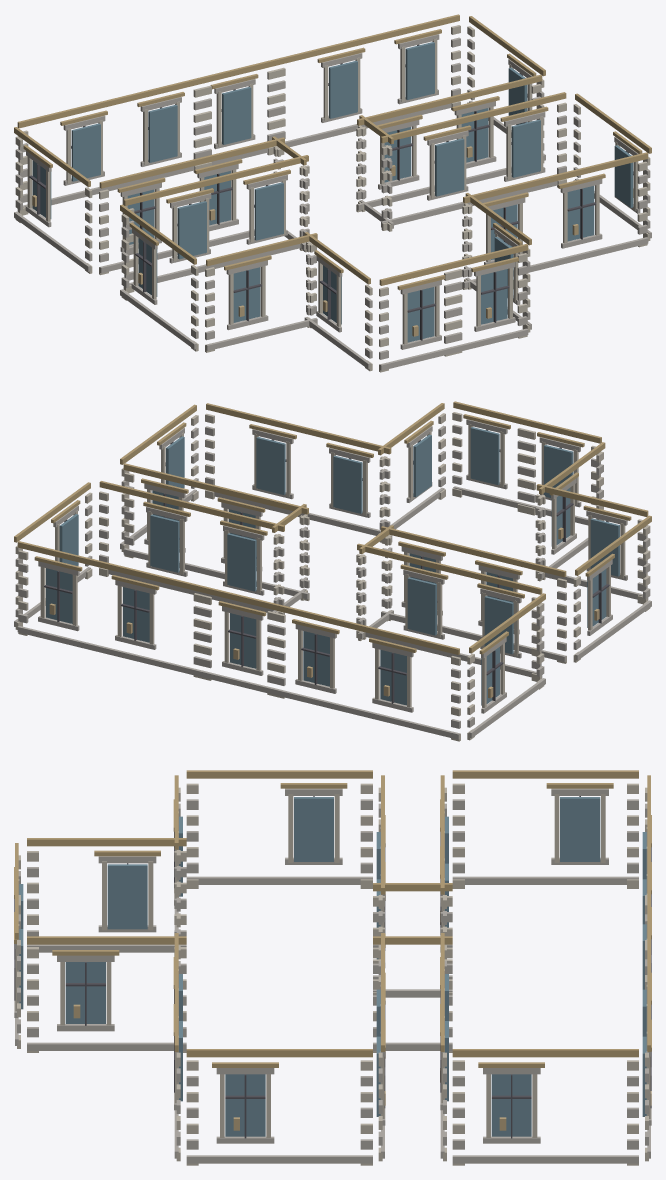
Rendered from exterior_facade_floor_03.glb.
3 views of the same model, one above another, from view 1: azimuth 30°, elevation 25°; view 2: azimuth 150°, elevation 25°; view 3: azimuth 270°, elevation 25° (orthographic). The views are drawn at different scales.
Parts seen in each view (by area): view 1: EXT-f3-e12-window0-glazing, EXT-f3-e12-window1-glazing, EXT-f3-e18-window0-glazing, EXT-f3-e3-window0-glazing, EXT-f3-e16-window0-glazing, EXT-f3-e17-window0-glazing, EXT-f3-e16-window1-glazing, EXT-f3-e18-window1-glazing, EXT-f3-e3-window1-glazing, EXT-f3-e18-continuous-cornice-2.888, EXT-f3-e16-continuous-cornice-2.888, EXT-f3-e12-continuous-cornice-2.888 (+39 smaller); view 2: EXT-f3-e1-window1-glazing, EXT-f3-e14-window1-glazing, EXT-f3-e10-window0-glazing, EXT-f3-e14-window0-glazing, EXT-f3-e8-window0-glazing, EXT-f3-e10-window1-glazing, EXT-f3-e18-continuous-cornice-0.2, EXT-f3-e18-continuous-cornice-2.888, EXT-f3-e16-continuous-cornice-2.888, EXT-f3-e16-continuous-cornice-0.2, EXT-f3-e1-continuous-cornice-2.888, EXT-f3-e12-continuous-cornice-2.888 (+35 smaller); view 3: EXT-f3-e6-window0-glazing, EXT-f3-e19-window0-glazing, EXT-f3-e4-window0-glazing, EXT-f3-e11-window0-glazing, EXT-f3-e15-window0-glazing, EXT-f3-e9-window0-glazing, EXT-f3-e4-continuous-cornice-2.888, EXT-f3-e11-continuous-cornice-0.2, EXT-f3-e15-continuous-cornice-0.2, EXT-f3-e19-continuous-cornice-2.888, EXT-f3-e11-continuous-cornice-2.888, EXT-f3-e15-continuous-cornice-2.888 (+12 smaller).
Boxes of the visible parts, x1=… form: EXT-f3-e12-window0-glazing: x1=511, y1=119, x2=540, y2=177; EXT-f3-e12-window1-glazing: x1=435, y1=138, x2=464, y2=196; EXT-f3-e18-window0-glazing: x1=148, y1=104, x2=177, y2=162; EXT-f3-e3-window0-glazing: x1=254, y1=182, x2=283, y2=240; EXT-f3-e16-window0-glazing: x1=405, y1=42, x2=434, y2=99; EXT-f3-e17-window0-glazing: x1=222, y1=86, x2=251, y2=144; EXT-f3-e16-window1-glazing: x1=329, y1=60, x2=357, y2=118; EXT-f3-e18-window1-glazing: x1=71, y1=123, x2=100, y2=181; EXT-f3-e3-window1-glazing: x1=177, y1=201, x2=206, y2=259; EXT-f3-e18-continuous-cornice-2.888: x1=17, y1=77, x2=202, y2=128; EXT-f3-e16-continuous-cornice-2.888: x1=275, y1=14, x2=459, y2=65; EXT-f3-e12-continuous-cornice-2.888: x1=381, y1=92, x2=566, y2=143; EXT-f3-e1-window1-glazing: x1=407, y1=577, x2=436, y2=635; EXT-f3-e14-window1-glazing: x1=150, y1=514, x2=179, y2=572; EXT-f3-e10-window0-glazing: x1=333, y1=455, x2=362, y2=513; EXT-f3-e14-window0-glazing: x1=227, y1=533, x2=256, y2=591; EXT-f3-e8-window0-glazing: x1=470, y1=427, x2=499, y2=484; EXT-f3-e10-window1-glazing: x1=256, y1=437, x2=285, y2=494; EXT-f3-e18-continuous-cornice-0.2: x1=274, y1=688, x2=459, y2=739; EXT-f3-e18-continuous-cornice-2.888: x1=274, y1=604, x2=459, y2=654; EXT-f3-e16-continuous-cornice-2.888: x1=17, y1=541, x2=202, y2=591; EXT-f3-e16-continuous-cornice-0.2: x1=17, y1=626, x2=202, y2=676; EXT-f3-e1-continuous-cornice-2.888: x1=357, y1=543, x2=542, y2=594; EXT-f3-e12-continuous-cornice-2.888: x1=123, y1=463, x2=308, y2=514; EXT-f3-e6-window0-glazing: x1=107, y1=864, x2=147, y2=929; EXT-f3-e19-window0-glazing: x1=560, y1=797, x2=600, y2=861; EXT-f3-e4-window0-glazing: x1=294, y1=797, x2=333, y2=861; EXT-f3-e11-window0-glazing: x1=225, y1=1074, x2=265, y2=1136; EXT-f3-e15-window0-glazing: x1=491, y1=1074, x2=531, y2=1136; EXT-f3-e9-window0-glazing: x1=65, y1=962, x2=105, y2=1023; EXT-f3-e4-continuous-cornice-2.888: x1=186, y1=770, x2=372, y2=778; EXT-f3-e11-continuous-cornice-0.2: x1=186, y1=1155, x2=372, y2=1163; EXT-f3-e15-continuous-cornice-0.2: x1=452, y1=1155, x2=638, y2=1163; EXT-f3-e19-continuous-cornice-2.888: x1=452, y1=770, x2=638, y2=778; EXT-f3-e11-continuous-cornice-2.888: x1=186, y1=1049, x2=372, y2=1057; EXT-f3-e15-continuous-cornice-2.888: x1=452, y1=1049, x2=638, y2=1057.
Bounding box in the file's own units: 15.22 × 2.93 × 14.61.
